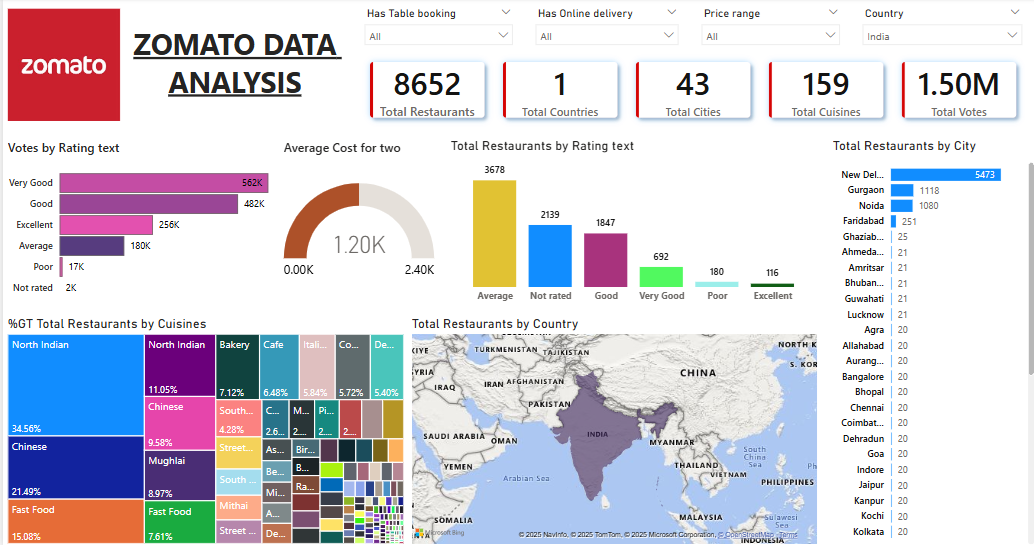

The dashboard page shown, as its layout file describes it:
{"tool":"powerbi","page":{"name":"Page 1","canvas":[1355,720],"ordinal":0},"visuals":[{"type":"slicer","fields":{"Values":["Country Master.Country"]},"box":[1115.7,7.1,228.6,55.7],"z":0},{"type":"slicer","fields":{"Values":["KPIs.Price range"]},"box":[904.3,7.1,201.4,55.7],"z":1000},{"type":"slicer","fields":{"Values":["KPIs.Has Online delivery"]},"box":[687.1,7.1,207.1,55.7],"z":2000},{"type":"slicer","fields":{"Values":["KPIs.Has Table booking"]},"box":[462.9,7.1,214.3,55.7],"z":3000},{"type":"cardVisual","fields":{"Data":["Zomato Sales.Total Restaurants","Country Master.Total Countries","Zomato Sales.Total Cities","Zomato Sales.Total Cuisines","Country Master.Total Votes"]},"box":[462.9,67.1,881.4,107.1],"z":4000},{"type":"barChart","fields":{"Category":["Zomato Sales.City"],"Y":["Zomato Sales.Total Restaurants"]},"box":[1081.4,182.9,273.6,537.1],"z":5000},{"type":"treemap","fields":{"Group":["Zomato Sales.Cuisines"],"Values":["Zomato Sales.Total Restaurants"]},"box":[1.5,416.4,528.4,303],"z":6000},{"type":"filledMap","fields":{"Category":["Country Master.Country"]},"box":[529.9,416.4,540.3,303],"z":7000},{"type":"columnChart","fields":{"Y":["Zomato Sales.Total Restaurants"],"Category":["KPIs.Rating text"]},"box":[580.6,183.6,489.6,225.4],"z":8000},{"type":"clusteredBarChart","title":"Votes by Rating text","fields":{"Category":["KPIs.Rating text"],"Y":["Sum(KPIs.Votes)"]},"box":[1.4,184.3,351.4,224.3],"z":9000},{"type":"gauge","title":"Average Cost for two","fields":{"Y":["Avg(KPIs.Average Cost for two)"]},"box":[362.9,184.3,207.1,224.3],"z":10000},{"type":"image","box":[1.4,0,157.1,174.3],"z":11000},{"type":"textbox","box":[158.6,30,290,114.3],"z":12000}]}

Visuals, with their boxes in screenshot pixels (x1, y1, x2, y2), scaled from the page's 1355x720 canvas onto the 1034x545 screenshot:
slicer - Country Master.Country: [851, 5, 1026, 48]
slicer - KPIs.Price range: [690, 5, 844, 48]
slicer - KPIs.Has Online delivery: [524, 5, 682, 48]
slicer - KPIs.Has Table booking: [353, 5, 517, 48]
cardVisual - Zomato Sales.Total Restaurants x Country Master.Total Countries: [353, 51, 1026, 132]
barChart - Zomato Sales.City x Zomato Sales.Total Restaurants: [825, 138, 1033, 544]
treemap - Zomato Sales.Cuisines x Zomato Sales.Total Restaurants: [1, 315, 404, 544]
filledMap - Country Master.Country: [404, 315, 817, 544]
columnChart - Zomato Sales.Total Restaurants x KPIs.Rating text: [443, 139, 817, 310]
"Votes by Rating text" clusteredBarChart: [1, 140, 269, 309]
"Average Cost for two" gauge: [277, 140, 435, 309]
image: [1, 0, 121, 132]
textbox: [121, 23, 342, 109]
